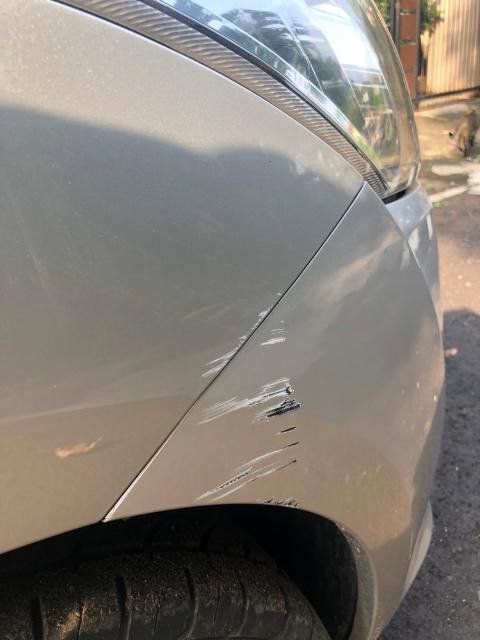scratch: (193, 311, 305, 511), (190, 288, 286, 380)
